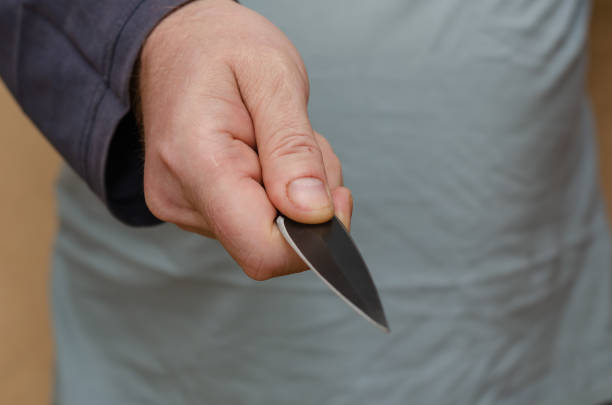knife: (276, 210, 392, 335)
